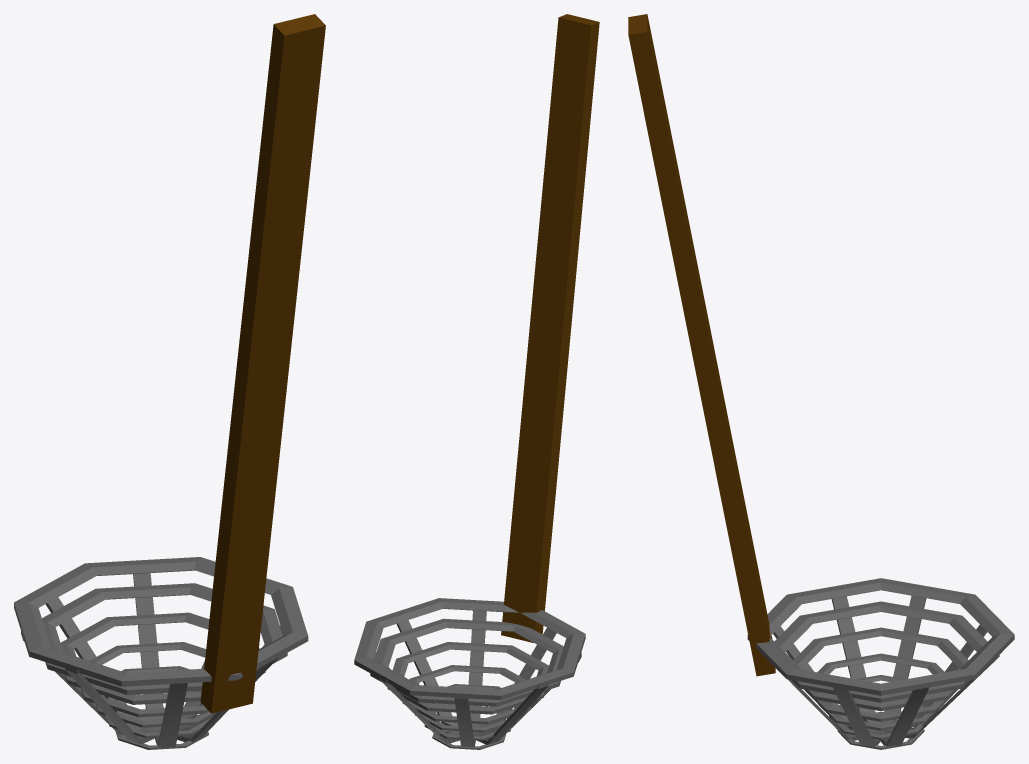
The model's file is Strainer.fbx.
3 views of the same model, side by side, from view 1: azimuth 30°, elevation 25°; view 2: azimuth 150°, elevation 25°; view 3: azimuth 270°, elevation 25° (orthographic). The views are drawn at different scales.
Parts seen in each view (by area): view 1: pCube8; view 2: pCube8; view 3: pCube8.
Boxes of the visible parts, bbox=[...] form: pCube8: bbox=[14, 14, 325, 749]; pCube8: bbox=[354, 14, 599, 749]; pCube8: bbox=[628, 14, 1014, 749].
Size of the model in its own units: 0.8797 by 2.58 by 1.27.
